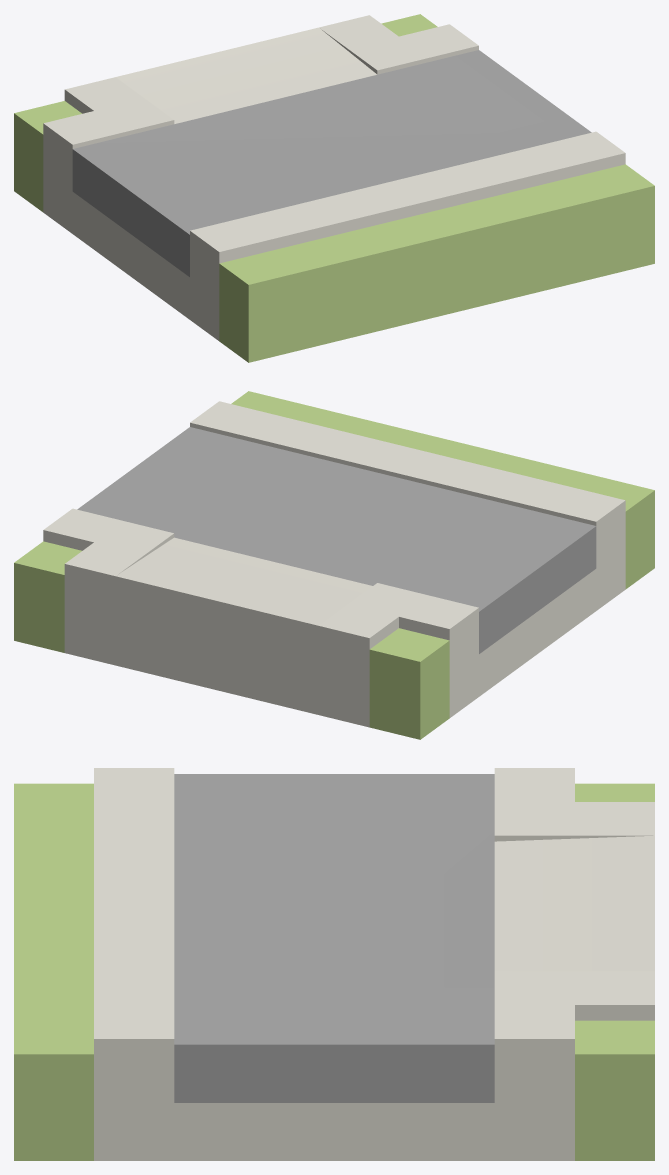
Rendered from road_tile_149.glb.
The picture shows the model from 3 angles, top to bottom: view 1: azimuth 30°, elevation 25°; view 2: azimuth 150°, elevation 25°; view 3: azimuth 270°, elevation 25°; orthographic projection. The views are drawn at different scales.
Visible parts, largest first — view 1: roadTile_149; view 2: roadTile_149; view 3: roadTile_149.
Part boxes in pixels (x1,y1,x2,y2): roadTile_149: (14, 14, 654, 362); roadTile_149: (14, 391, 654, 739); roadTile_149: (14, 768, 654, 1160).
Bounding box in the file's own units: 3 × 0.63 × 3.
